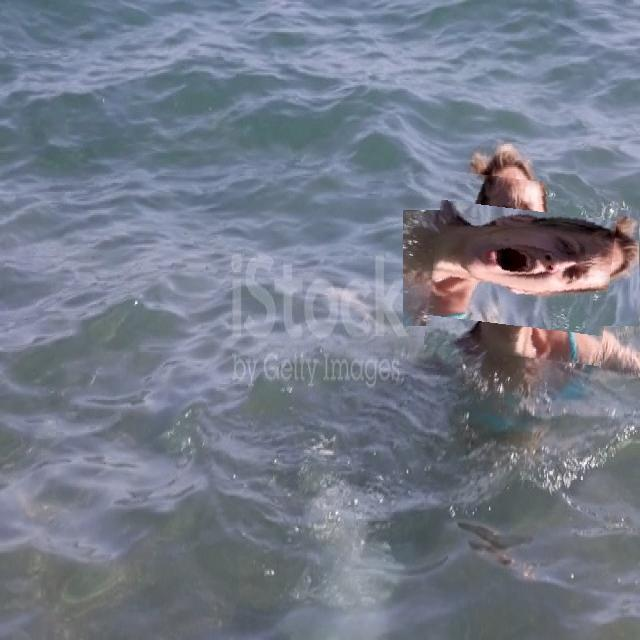Out of Water: (428, 175, 615, 361)
